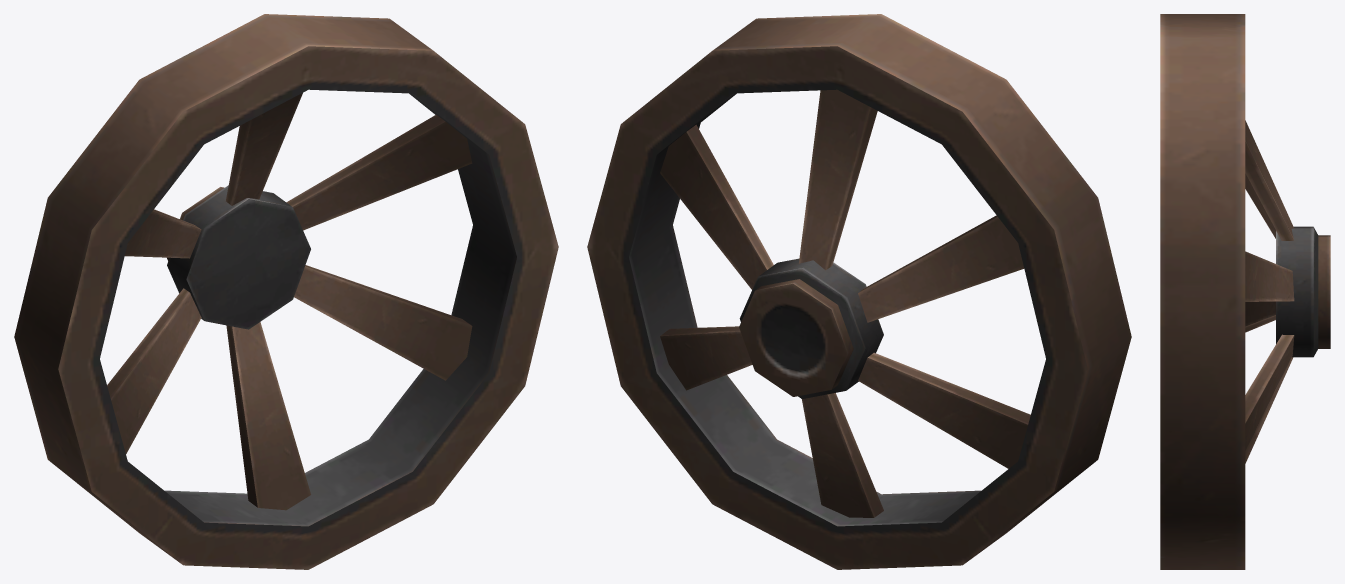
The model's file is D48_WHEEL_T.obj.
3 renders of one model, left to right at view 1: azimuth 30°, elevation 25°; view 2: azimuth 150°, elevation 25°; view 3: azimuth 270°, elevation 25°, orthographic. The views are drawn at different scales.
Visible parts, largest first — view 1: D48_WHEEL_T; view 2: D48_WHEEL_T; view 3: D48_WHEEL_T.
Part boxes in pixels (<box>): D48_WHEEL_T: <box>14,14,558,569</box>; D48_WHEEL_T: <box>587,14,1131,569</box>; D48_WHEEL_T: <box>1160,14,1330,569</box>.
Size of the model in its own units: 2.6 by 2.6 by 0.7934.
1 material, 1 textured.
